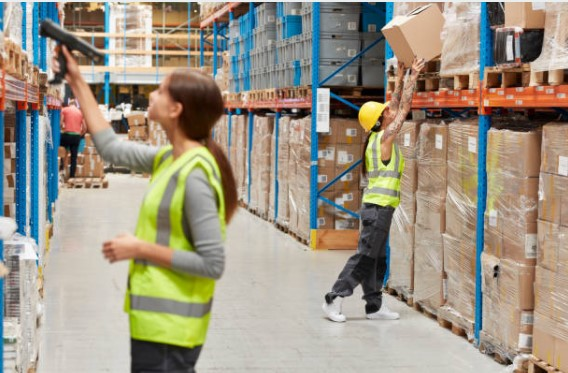stock: (381, 4, 444, 65)
worker: (128, 72, 226, 346), (359, 103, 405, 209)
